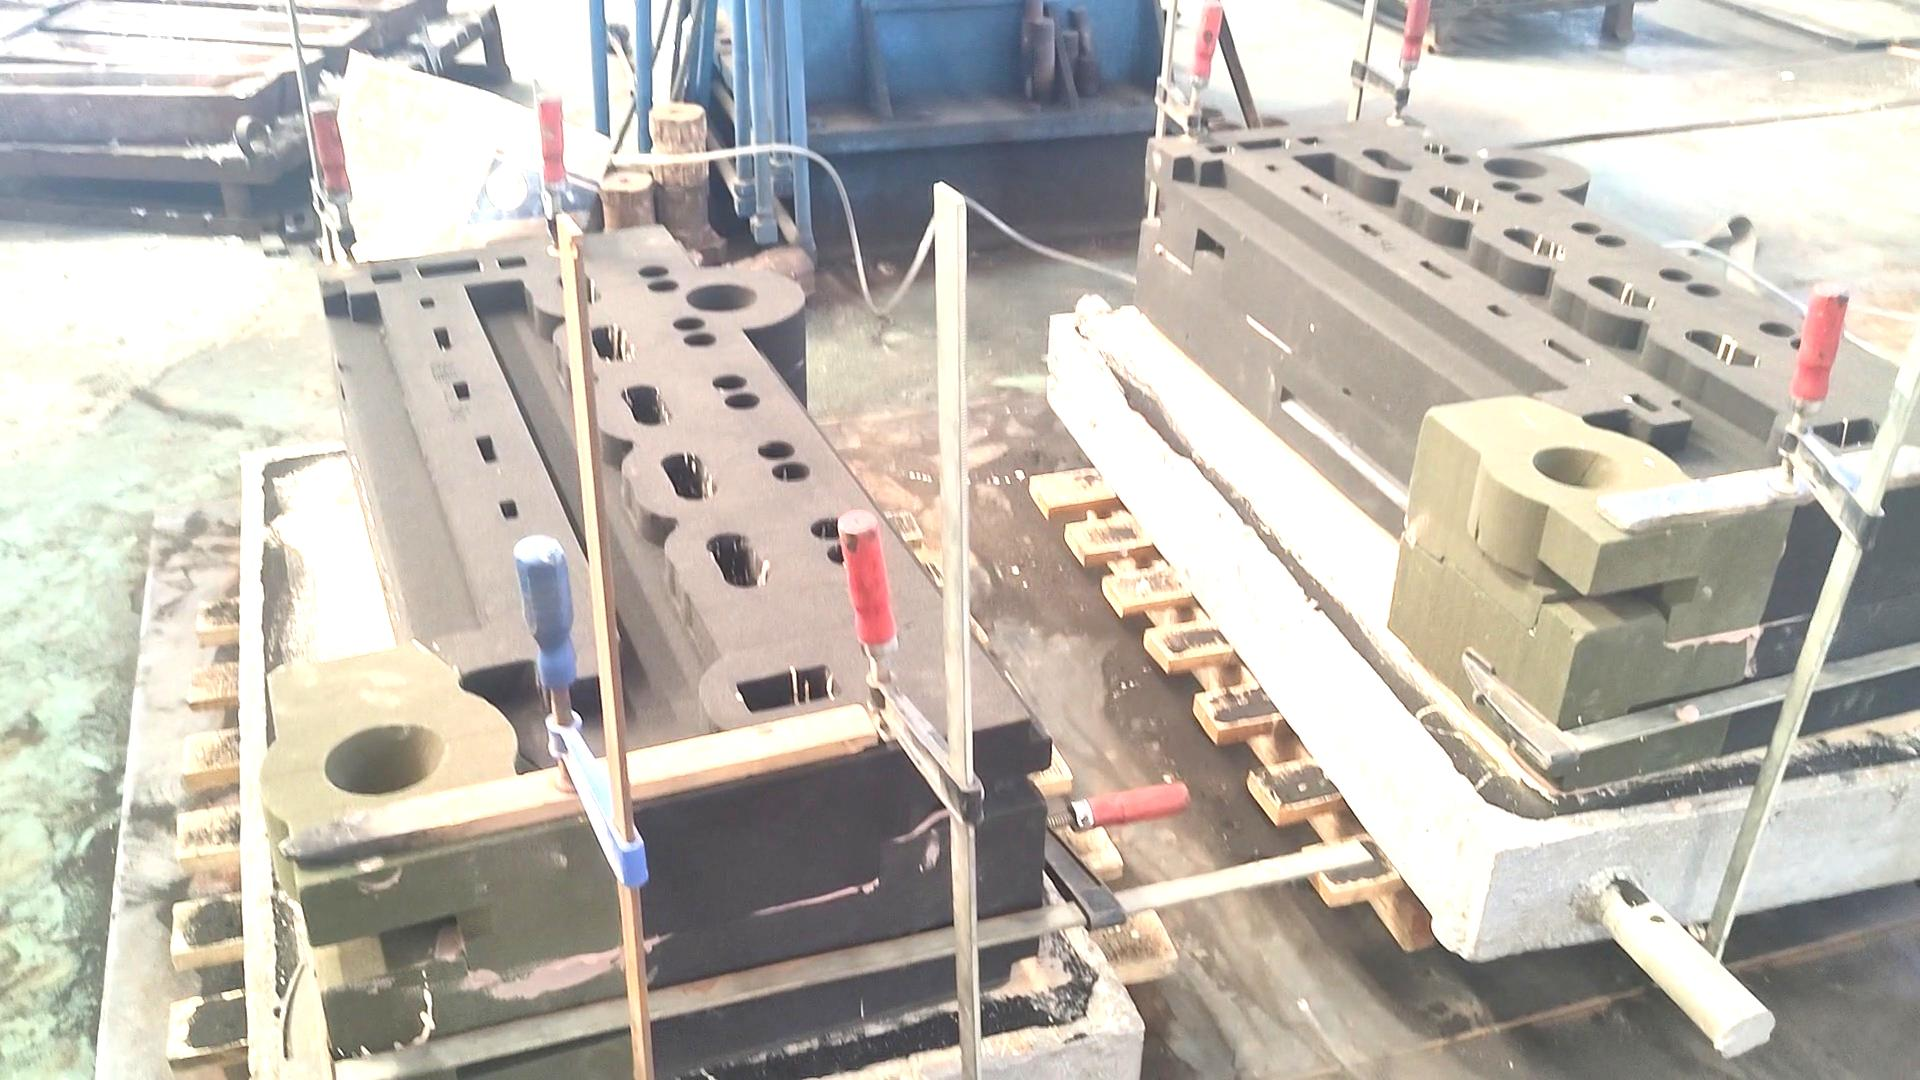pouring hole: (323, 723, 444, 795), (1534, 447, 1623, 487), (687, 285, 757, 313), (1484, 157, 1548, 178)
